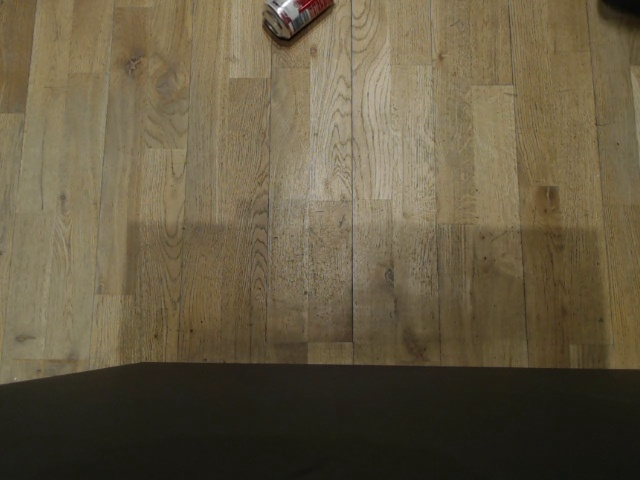cola: (258, 0, 338, 40)
